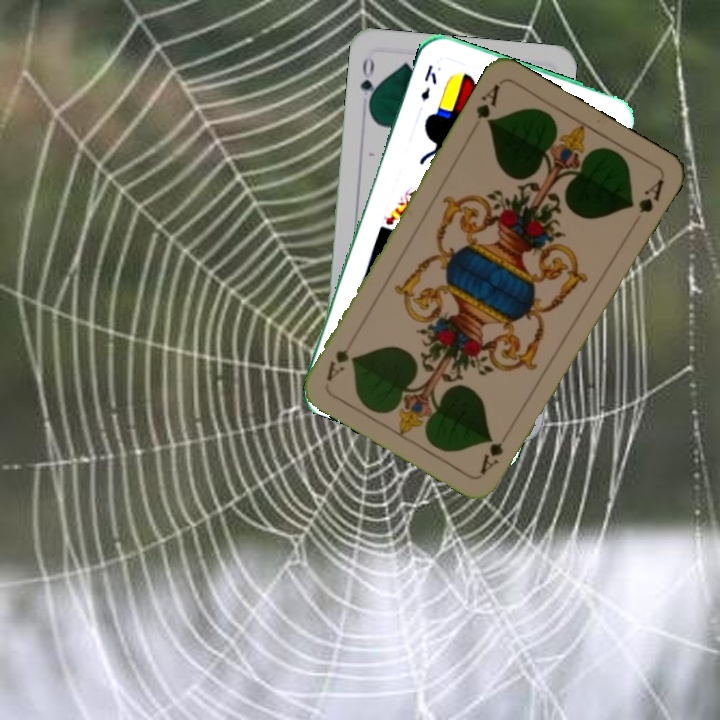EK: (416, 60, 440, 104)
GA: (476, 424, 514, 477), (471, 80, 503, 127)
GO: (356, 53, 380, 112)
